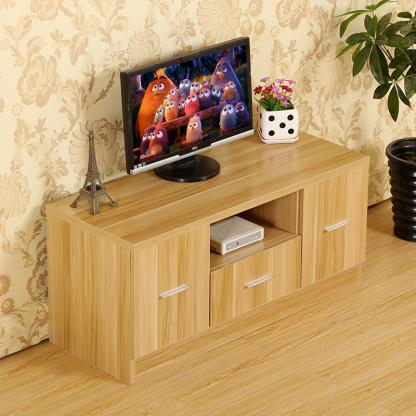TV stand: (47, 133, 371, 382)
Wooden floor: (0, 203, 416, 416)
